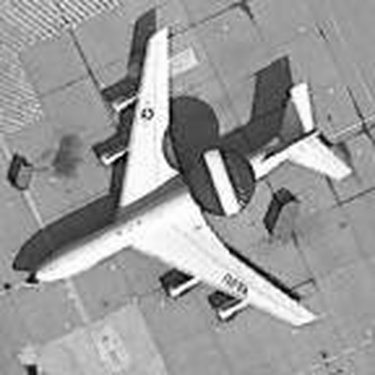airplane: (1, 12, 361, 339)
